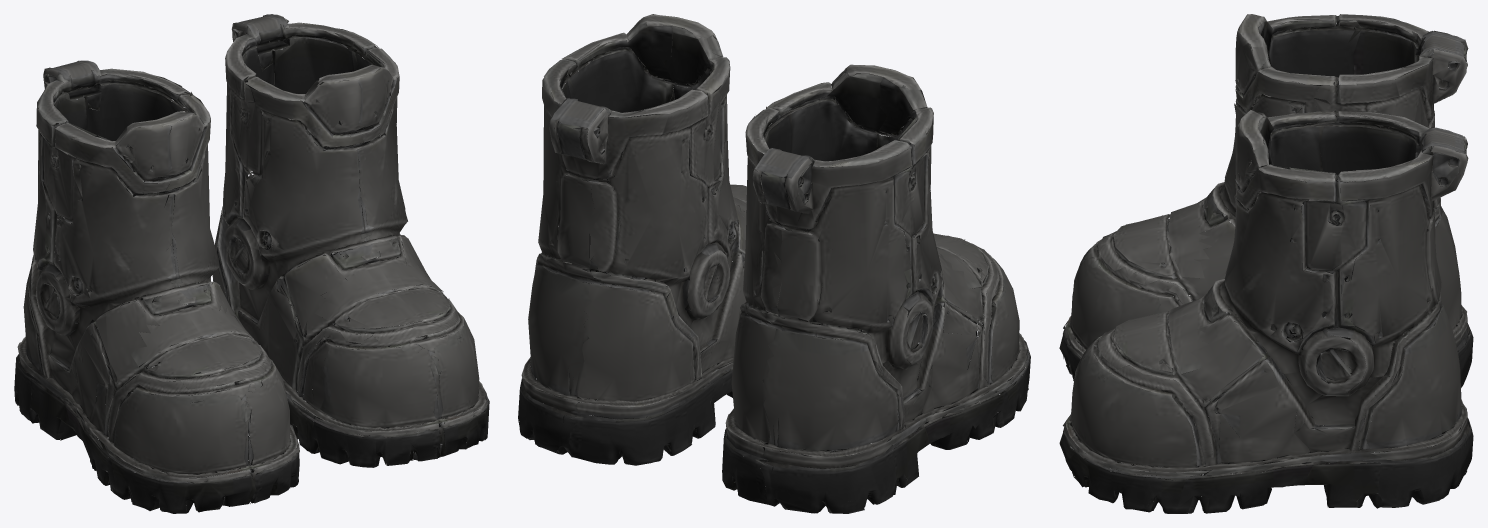
File: piece_boot_classic.glb
3 views of the same model, side by side, from view 1: azimuth 30°, elevation 25°; view 2: azimuth 150°, elevation 25°; view 3: azimuth 270°, elevation 25° (orthographic). The views are drawn at different scales.
Parts seen in each view (by area): view 1: trait_boot_classic_right, trait_boot_classic_left; view 2: trait_boot_classic_right, trait_boot_classic_left; view 3: trait_boot_classic_left, trait_boot_classic_right.
Part boxes in pixels (left/top/right/bottom): trait_boot_classic_right: left=14, top=60, right=299, bottom=513; trait_boot_classic_left: left=212, top=14, right=489, bottom=467; trait_boot_classic_right: left=722, top=64, right=1030, bottom=513; trait_boot_classic_left: left=518, top=14, right=762, bottom=465; trait_boot_classic_left: left=1059, top=109, right=1473, bottom=513; trait_boot_classic_right: left=1059, top=14, right=1473, bottom=416.
Bounding box in the file's own units: 0.5666 × 0.5015 × 0.5404.
2 materials, 2 textured.
